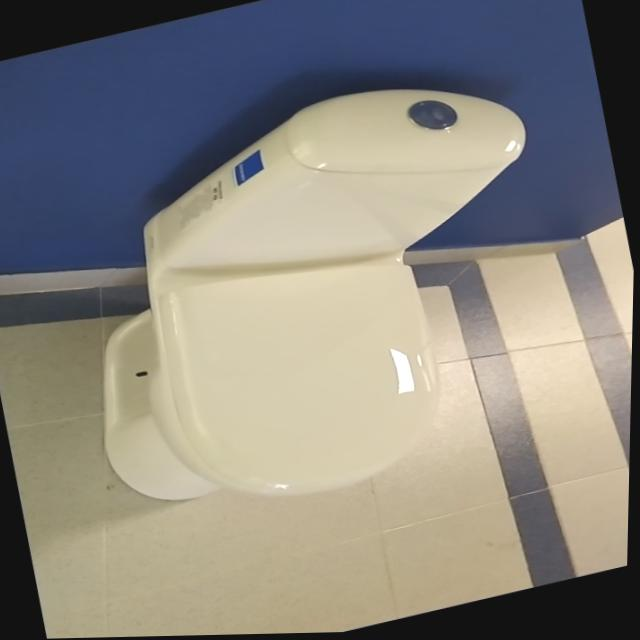toilet: (44, 55, 593, 542)
